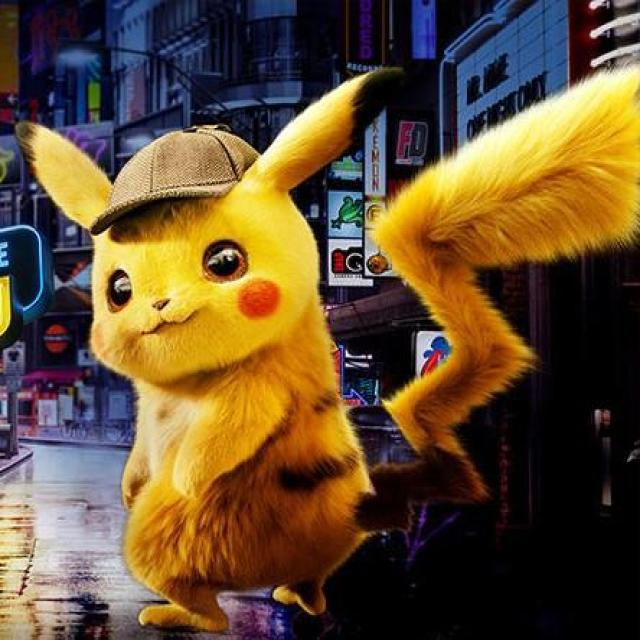pikachu: (14, 66, 640, 636)
